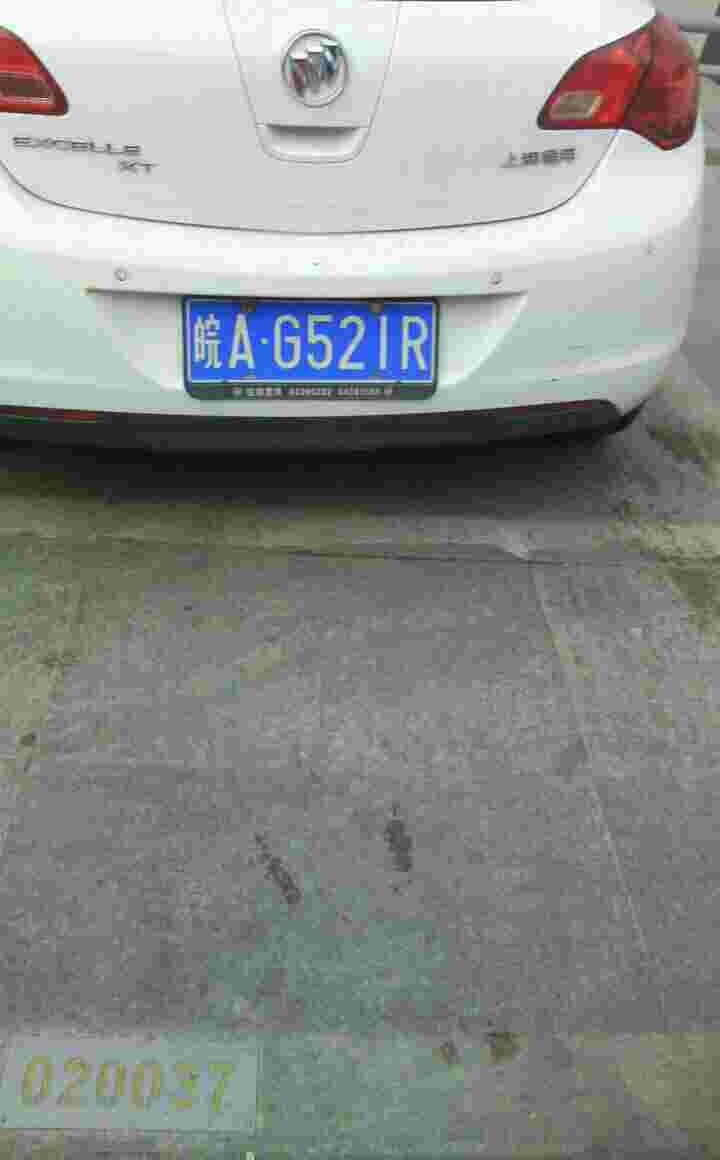license_plate: (191, 298, 439, 386)
